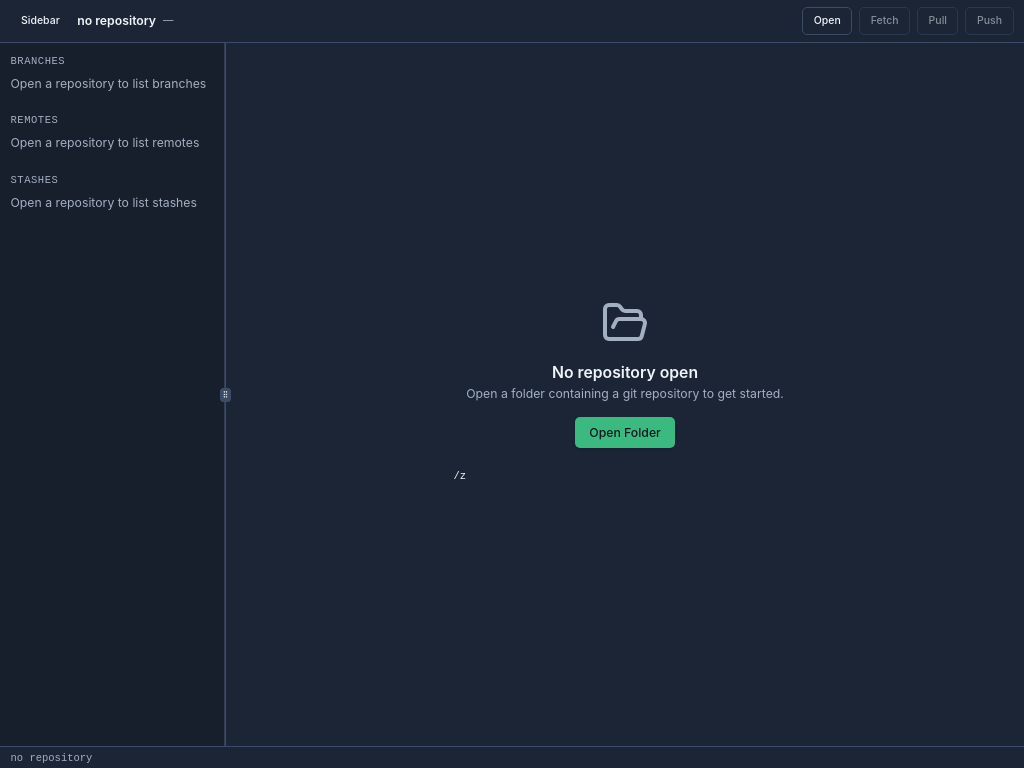
Scenario: App shell › reports a transport failure when reopening a recent repo
Click the button "/z". click: (460,476)
box: [443,462,807,490]
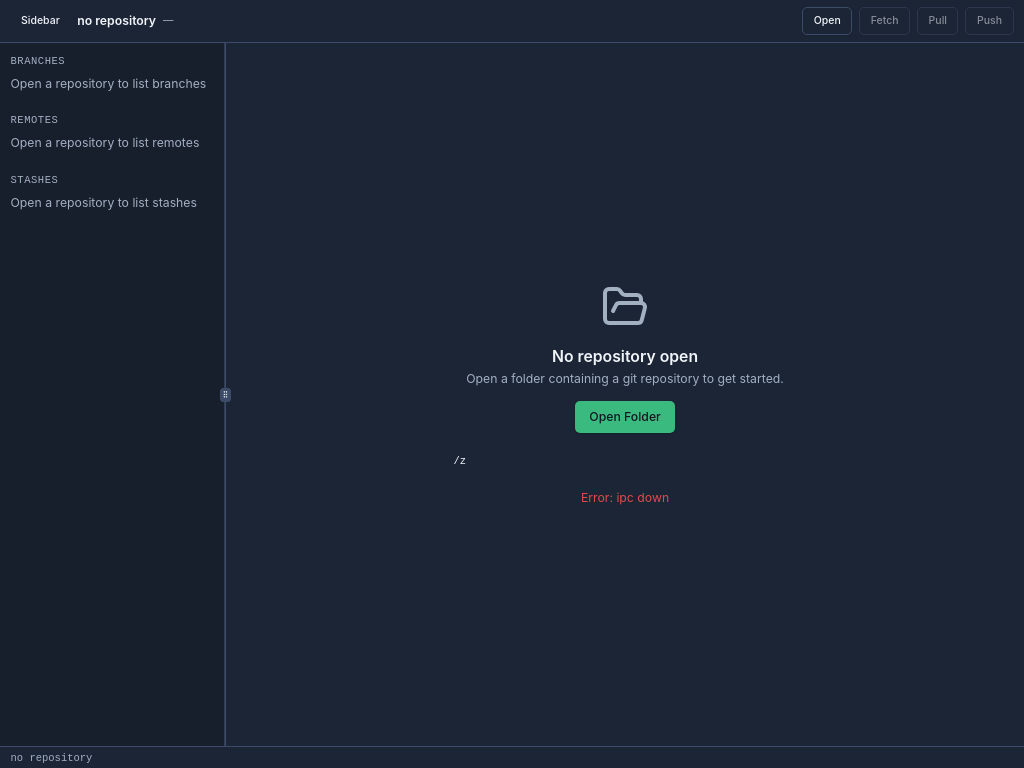
Result: the text with test id "open-error" reads "Error: ipc down" at [581,490,669,504]
